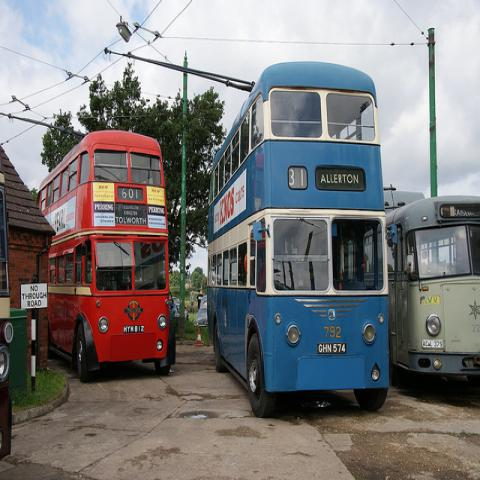bus: (200, 55, 394, 429), (38, 129, 172, 382), (391, 194, 479, 402)
car: (168, 303, 188, 323), (195, 300, 208, 326), (170, 297, 179, 304)
